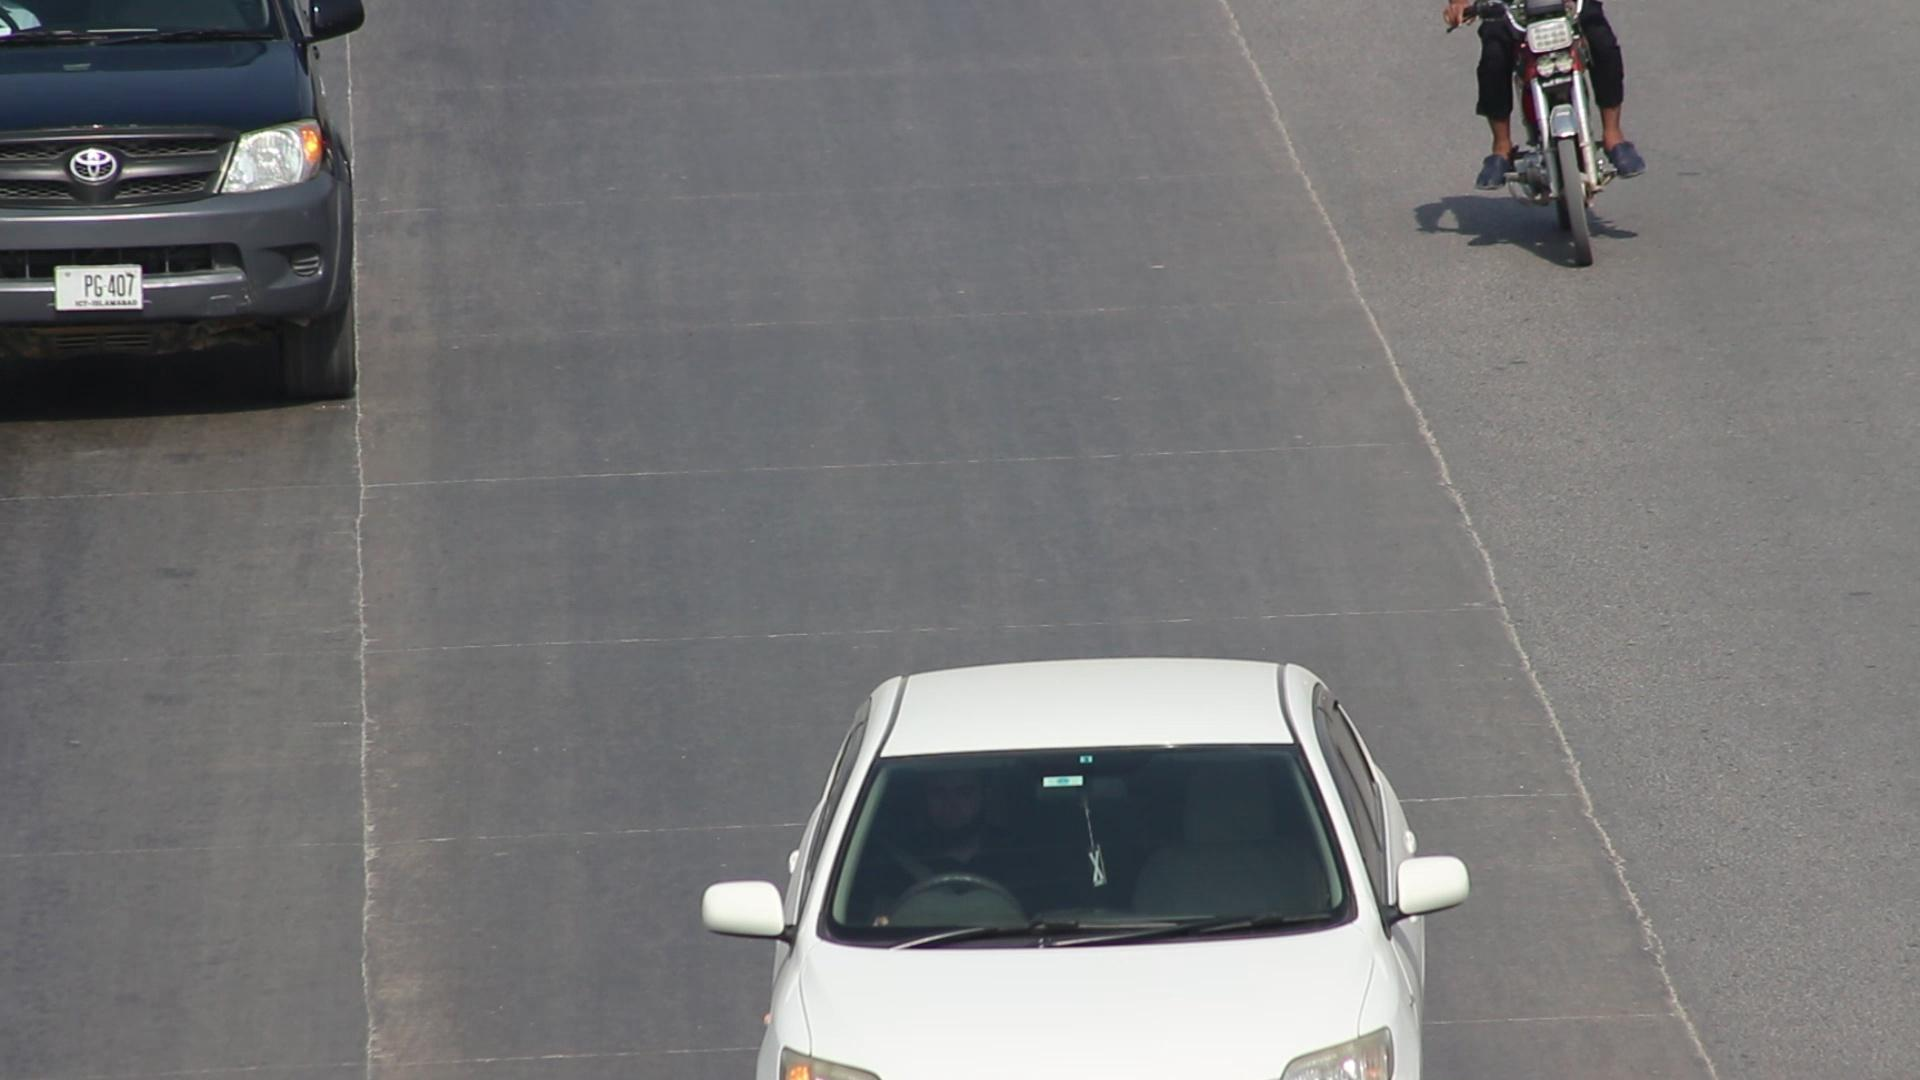windshield: (814, 733, 1377, 943)
